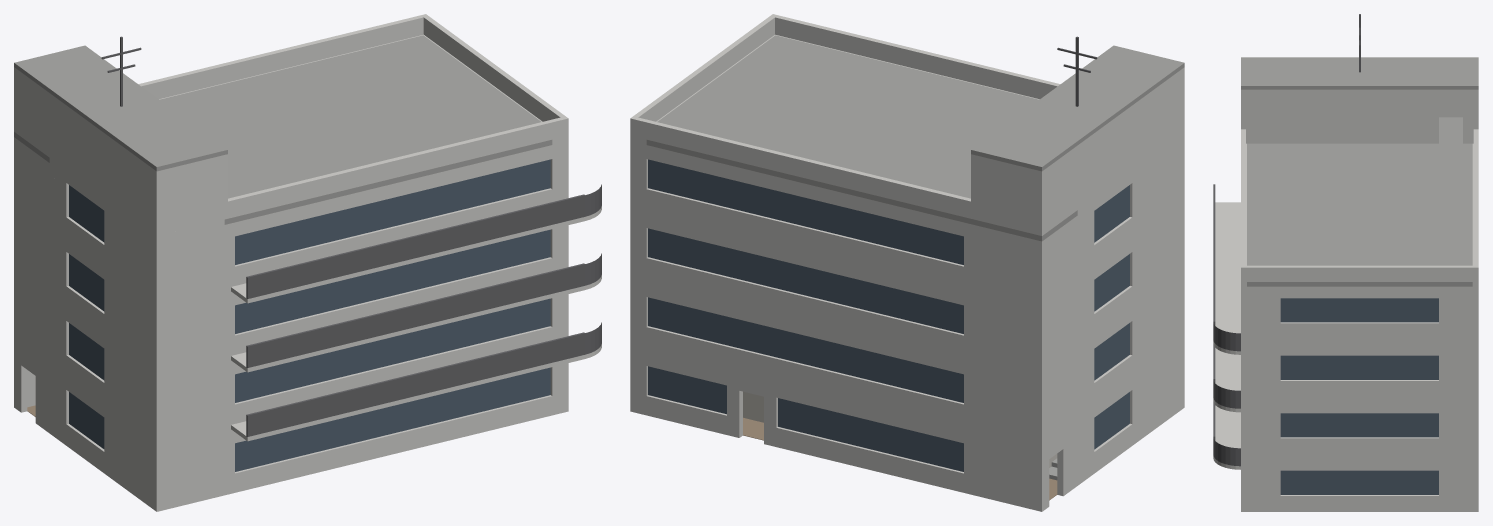
File: apartment.walls-v1.lod0.glb
3 views of the same model, side by side, from view 1: azimuth 30°, elevation 25°; view 2: azimuth 150°, elevation 25°; view 3: azimuth 270°, elevation 25° (orthographic). The views are drawn at different scales.
Parts seen in each view (by area): view 1: apartment; view 2: apartment; view 3: apartment.
Part boxes in pixels (<box>): apartment: <box>14,14,601,511</box>; apartment: <box>630,14,1184,511</box>; apartment: <box>1213,14,1478,511</box>.
Size of the model in its own units: 21.4 by 19.2 by 13.4.
